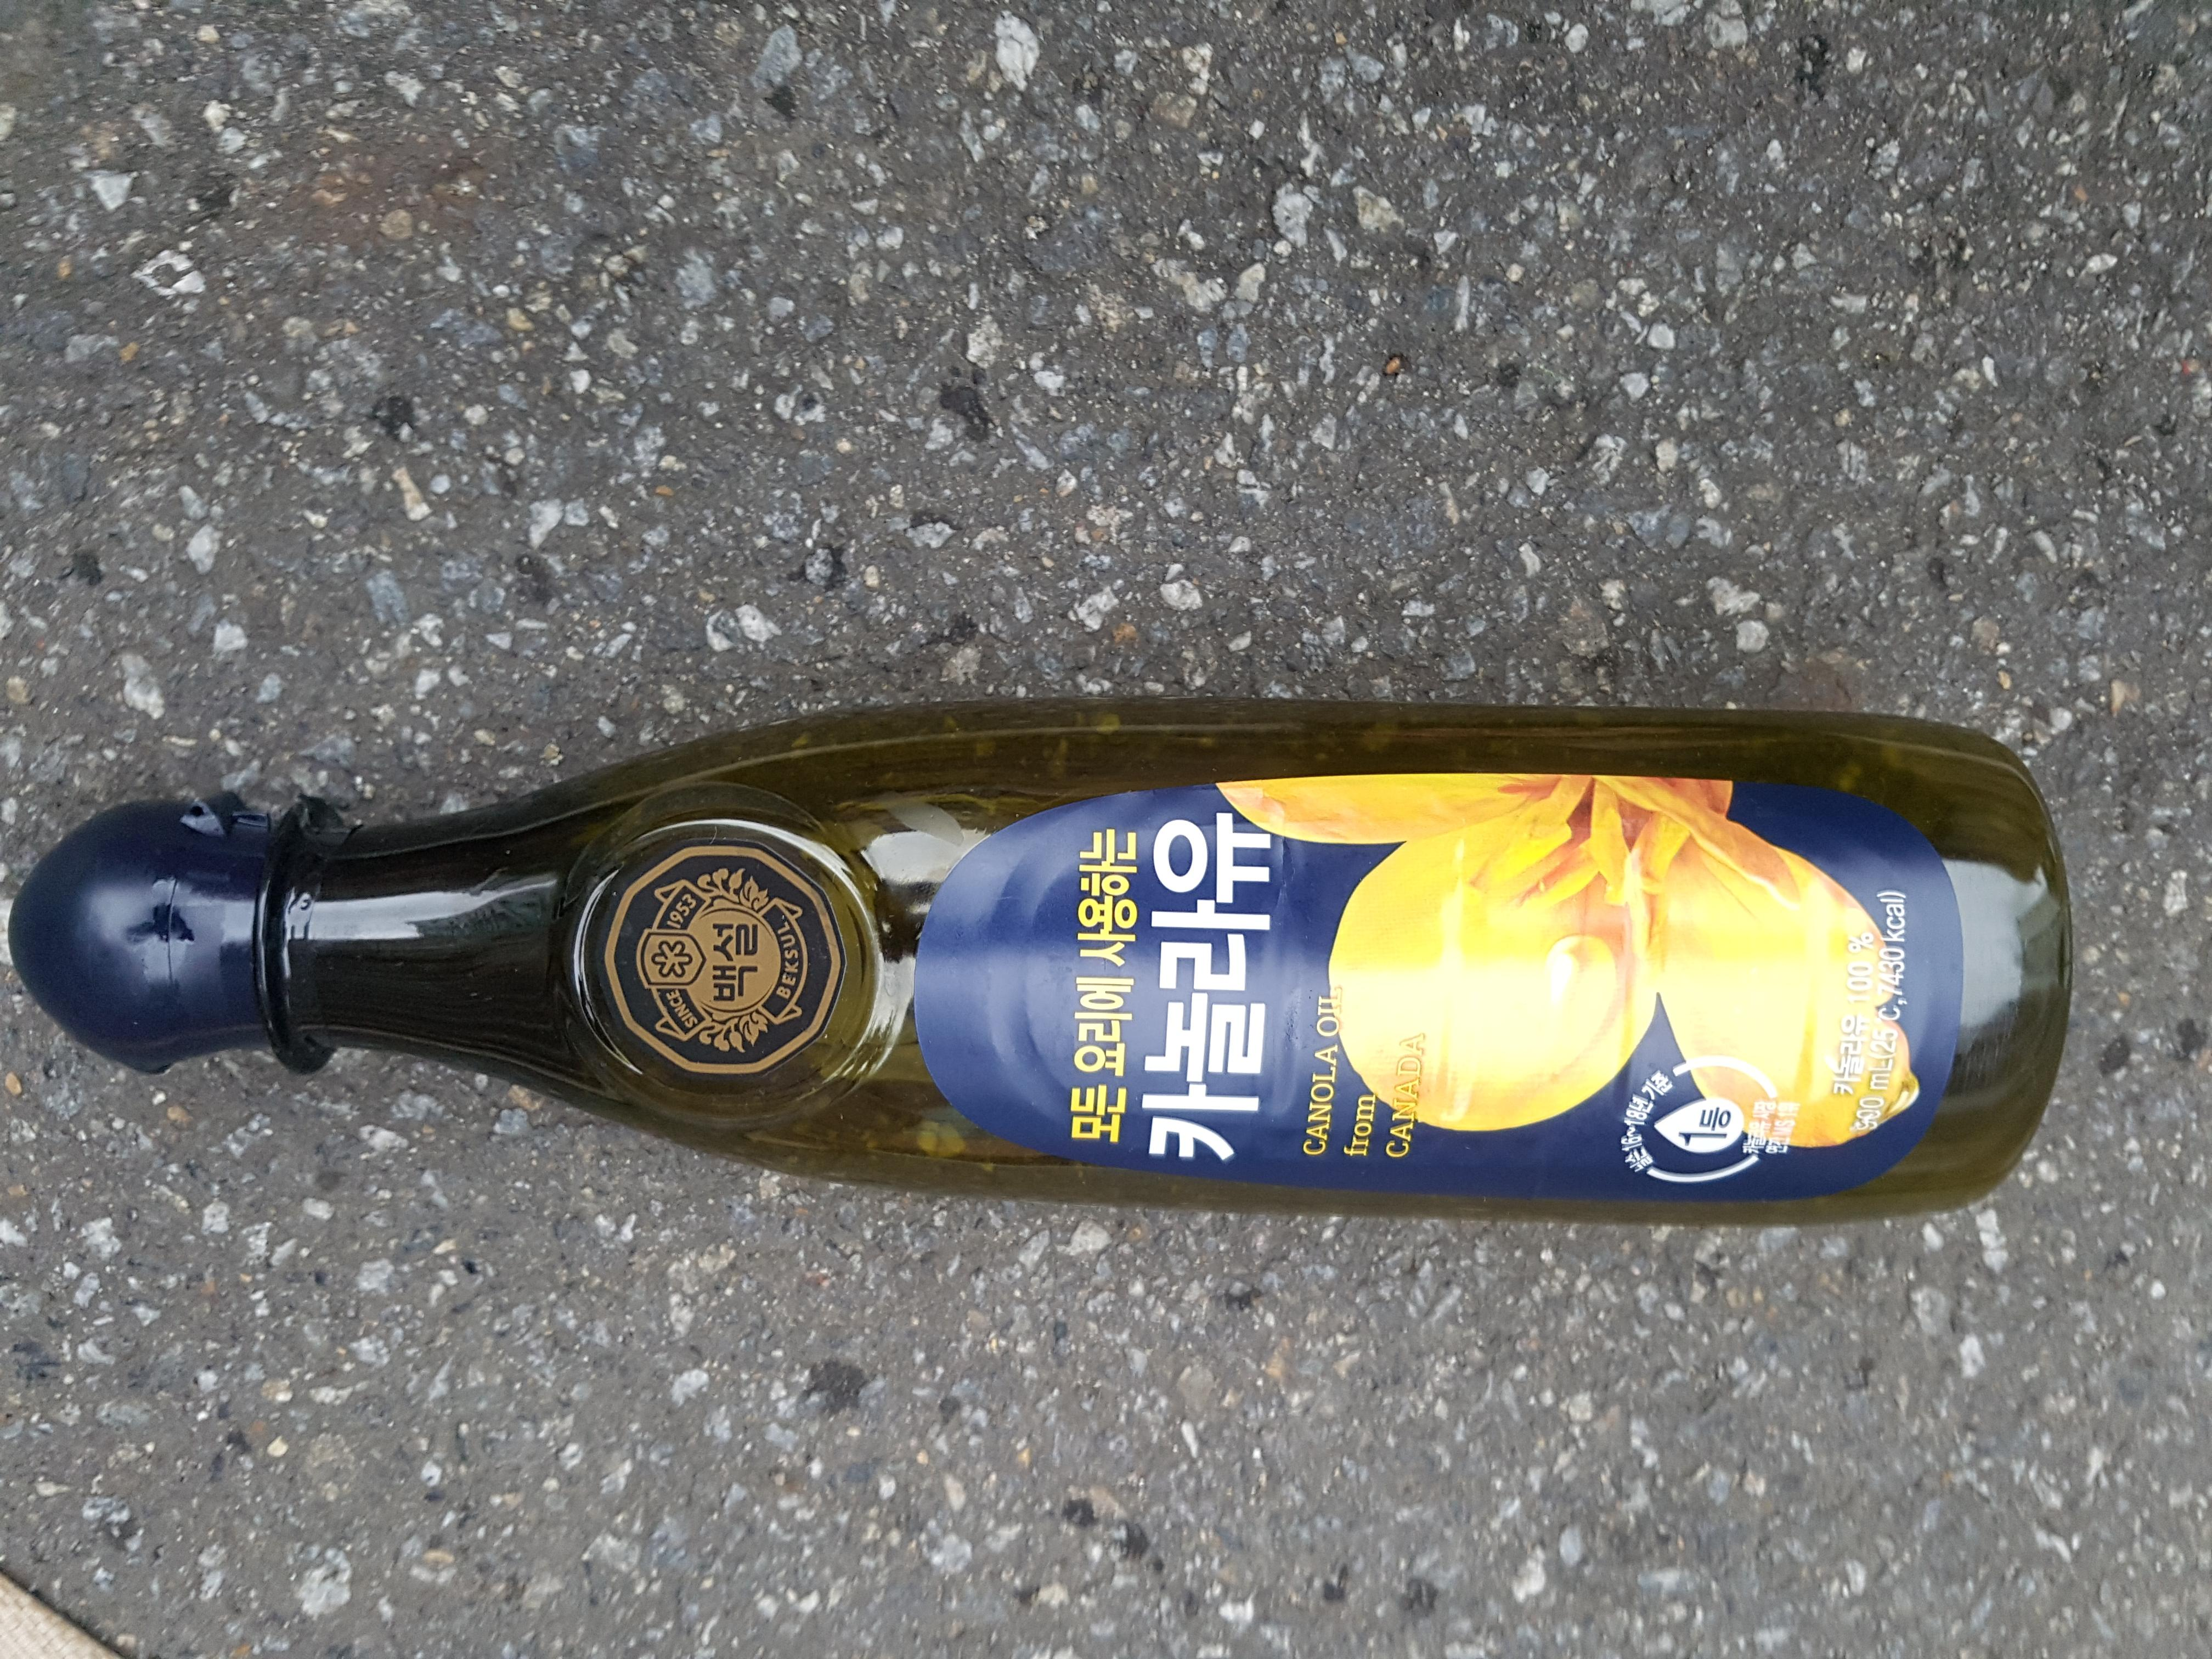bottle: (507, 66, 1486, 1572)
